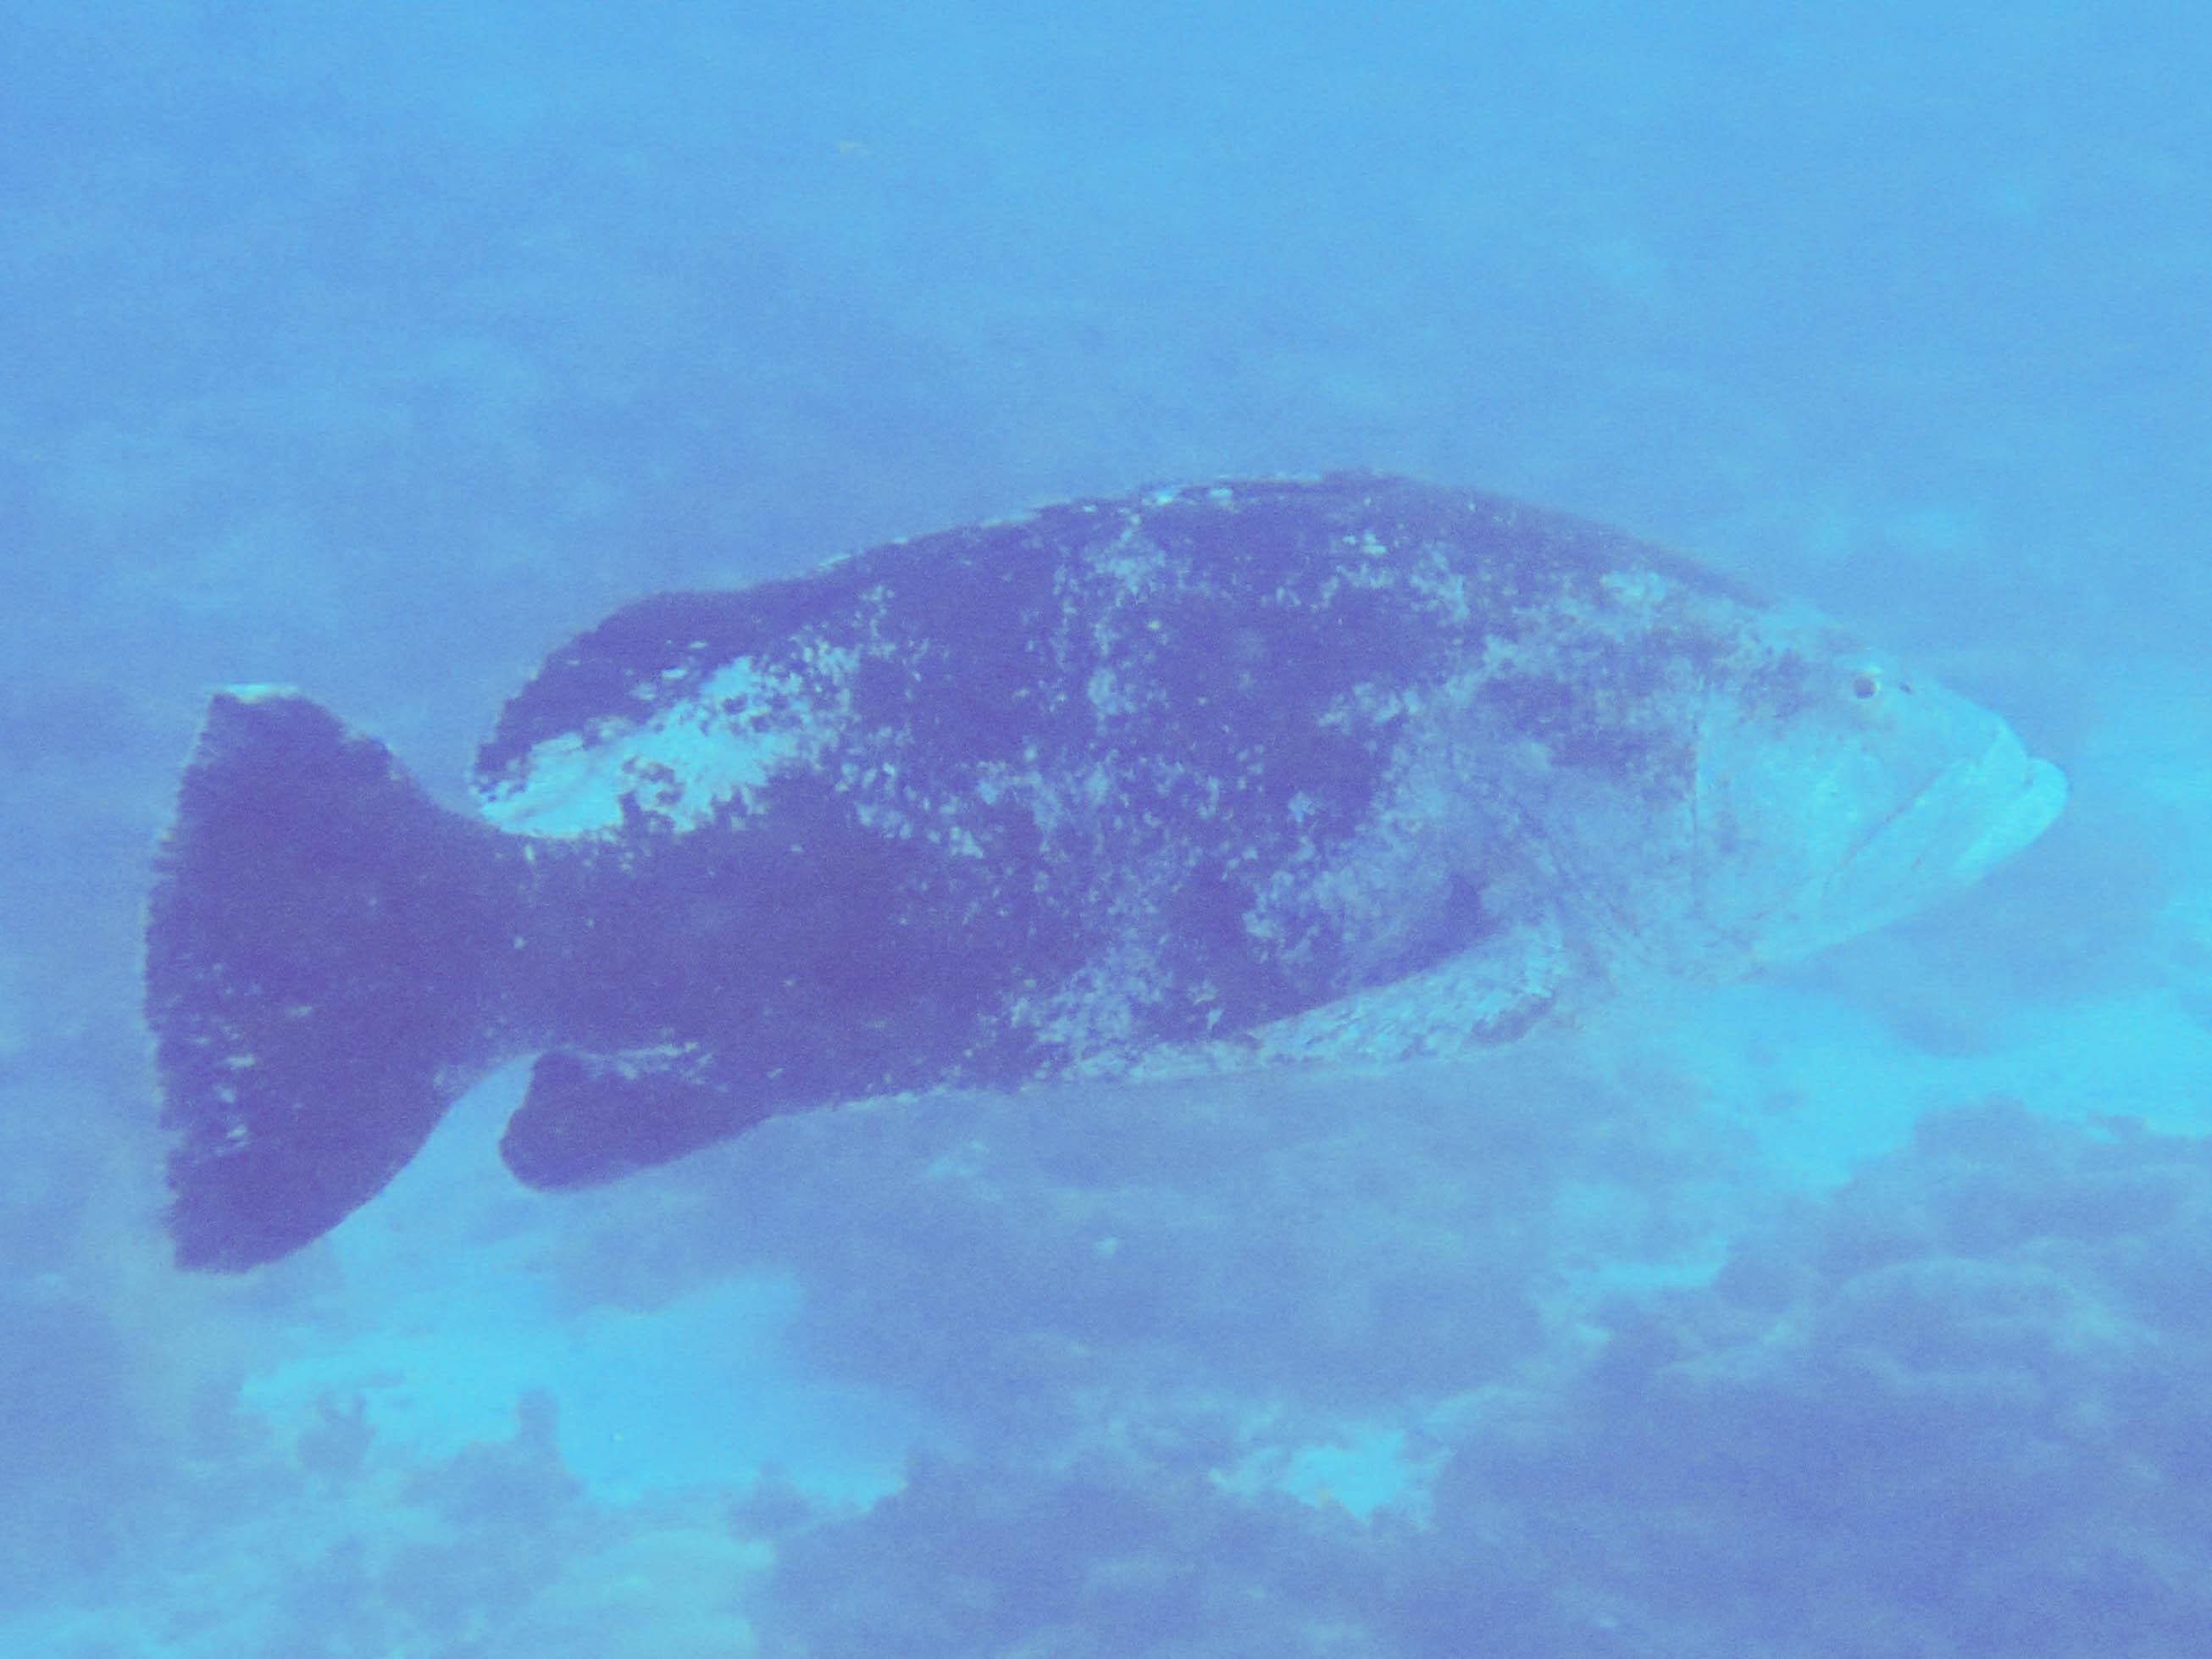Fish: (118, 464, 2078, 1297)
